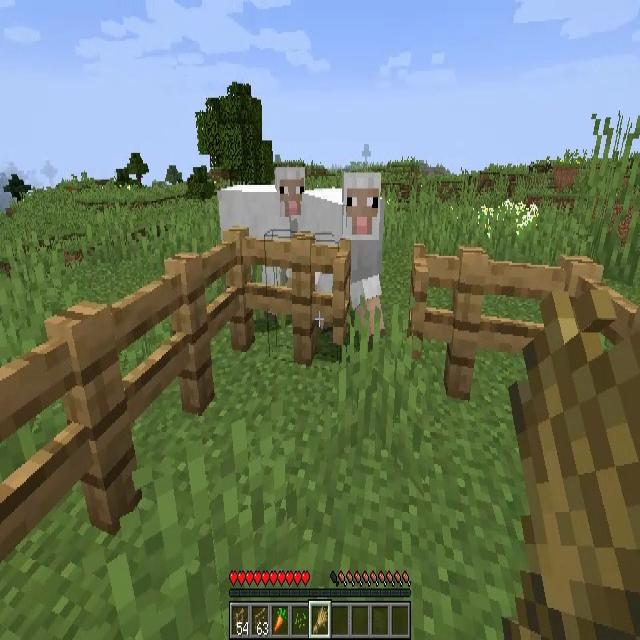sheep: (305, 171, 384, 326), (218, 168, 305, 300)
